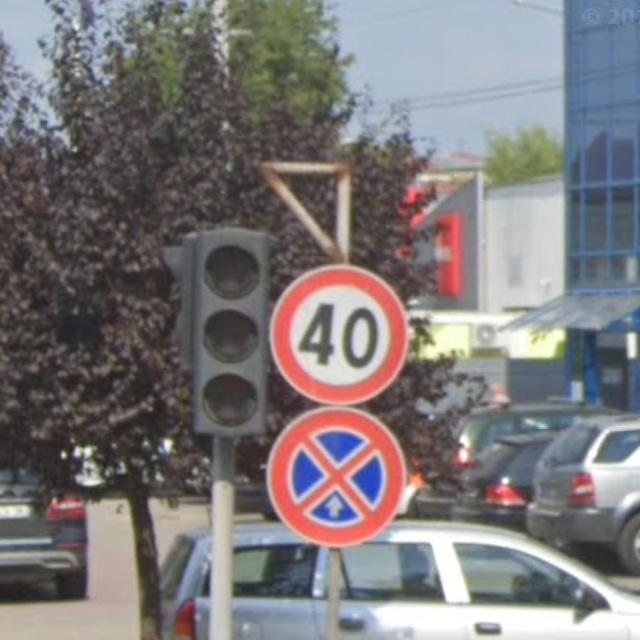forb_speed_over_40: (270, 260, 410, 406)
forb_stopping: (266, 407, 408, 549)
